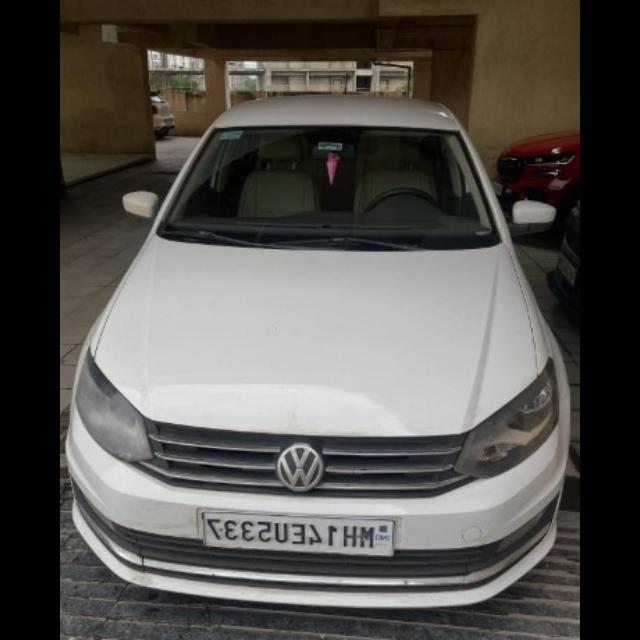number-plate: (202, 511, 395, 556), (493, 178, 506, 196), (165, 117, 175, 125)
vehicles: (64, 101, 558, 614), (497, 130, 580, 233), (149, 89, 175, 139)
